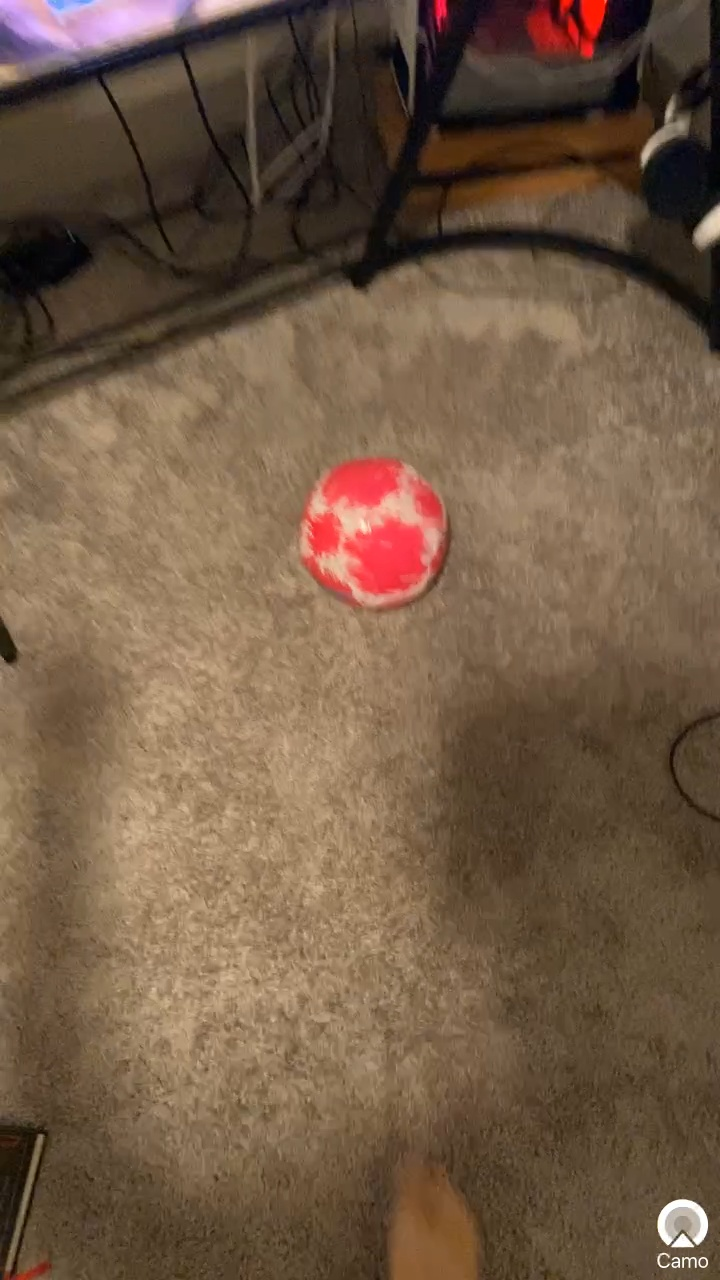Soccer_Ball: (285, 437, 474, 641)
